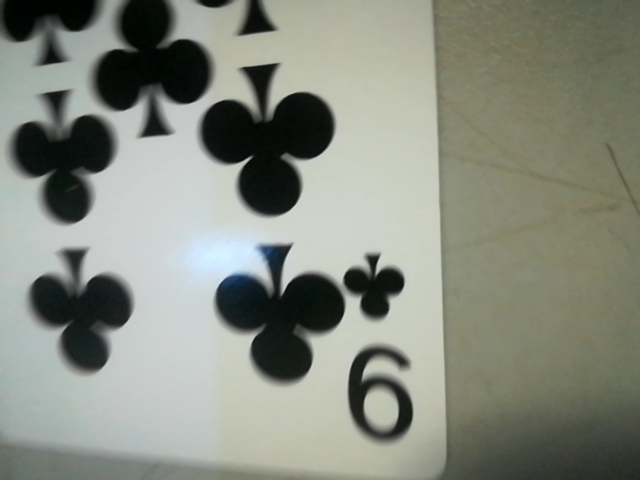mh 9: (336, 234, 438, 459)
